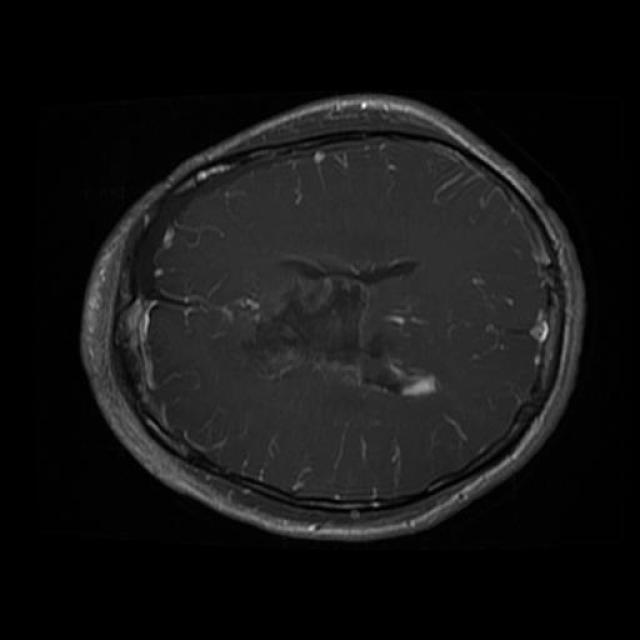Glioma: (247, 260, 411, 369)
